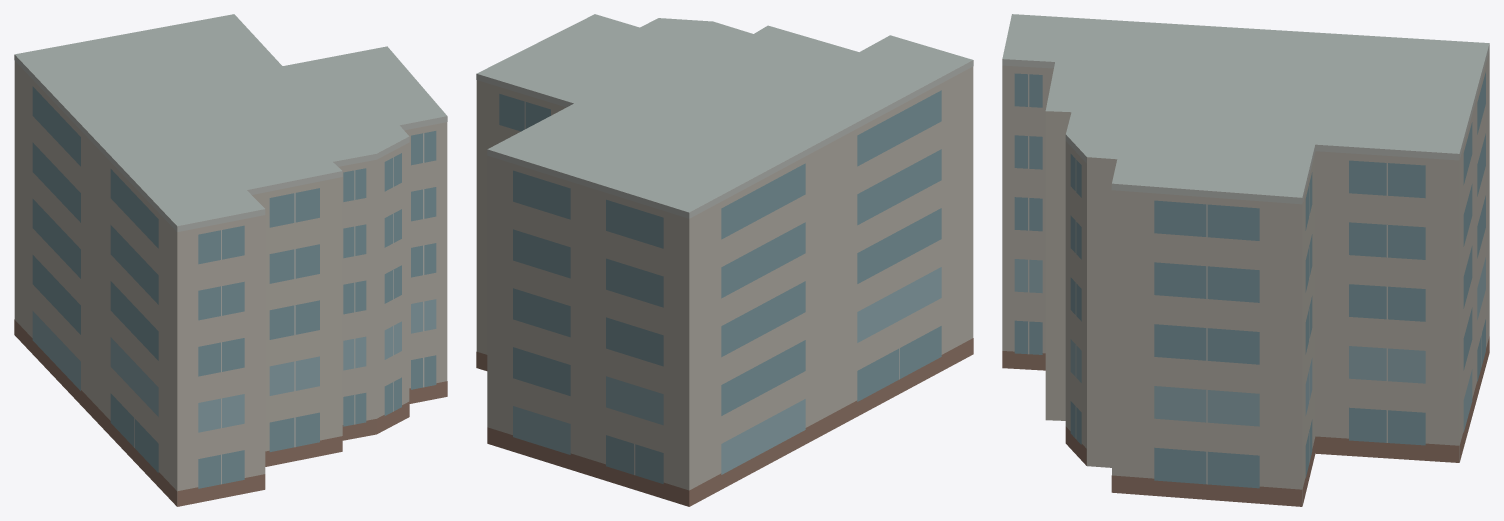
The model's file is survey-upis-32969638.glb.
3 views of the same model, side by side, from view 1: azimuth 30°, elevation 25°; view 2: azimuth 150°, elevation 25°; view 3: azimuth 270°, elevation 25° (orthographic). The views are drawn at different scales.
Parts seen in each view (by area): view 1: survey-upis-32969638.tmp; view 2: survey-upis-32969638.tmp; view 3: survey-upis-32969638.tmp.
Part boxes in pixels (<box>): survey-upis-32969638.tmp: <box>14,14,447,506</box>; survey-upis-32969638.tmp: <box>476,14,973,506</box>; survey-upis-32969638.tmp: <box>1002,14,1489,506</box>.
Size of the model in its own units: 14.68 by 11.5 by 16.45.
